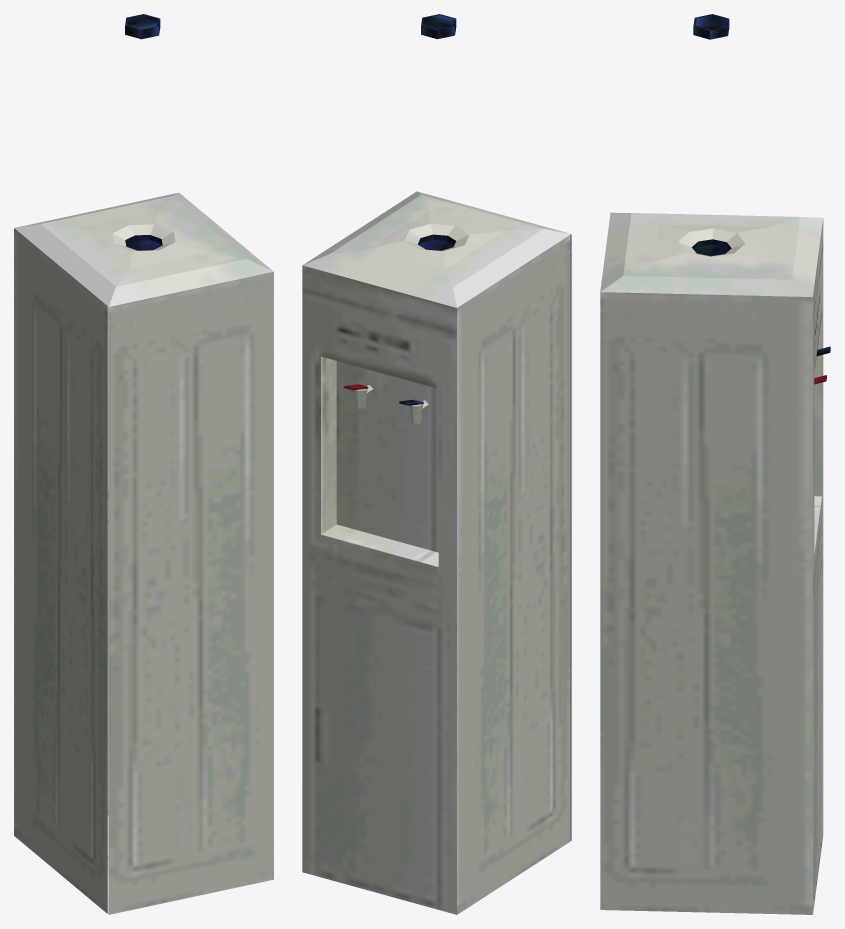
Rendered from water_cooler.fbx.
3 renders of one model, left to right at view 1: azimuth 30°, elevation 25°; view 2: azimuth 150°, elevation 25°; view 3: azimuth 270°, elevation 25°, orthographic.
Parts seen in each view (by area): view 1: water_cooler, water_cooler_bottle; view 2: water_cooler, water_cooler_bottle; view 3: water_cooler, water_cooler_bottle.
Boxes of the visible parts, box(x1,y1,x2,y2) form: water_cooler: box(14, 193, 273, 914); water_cooler_bottle: box(125, 14, 160, 39); water_cooler: box(302, 191, 571, 914); water_cooler_bottle: box(421, 14, 456, 39); water_cooler: box(600, 212, 830, 914); water_cooler_bottle: box(693, 14, 729, 39).
Bounding box in the file's own units: 40.49 × 188 × 46.31.
